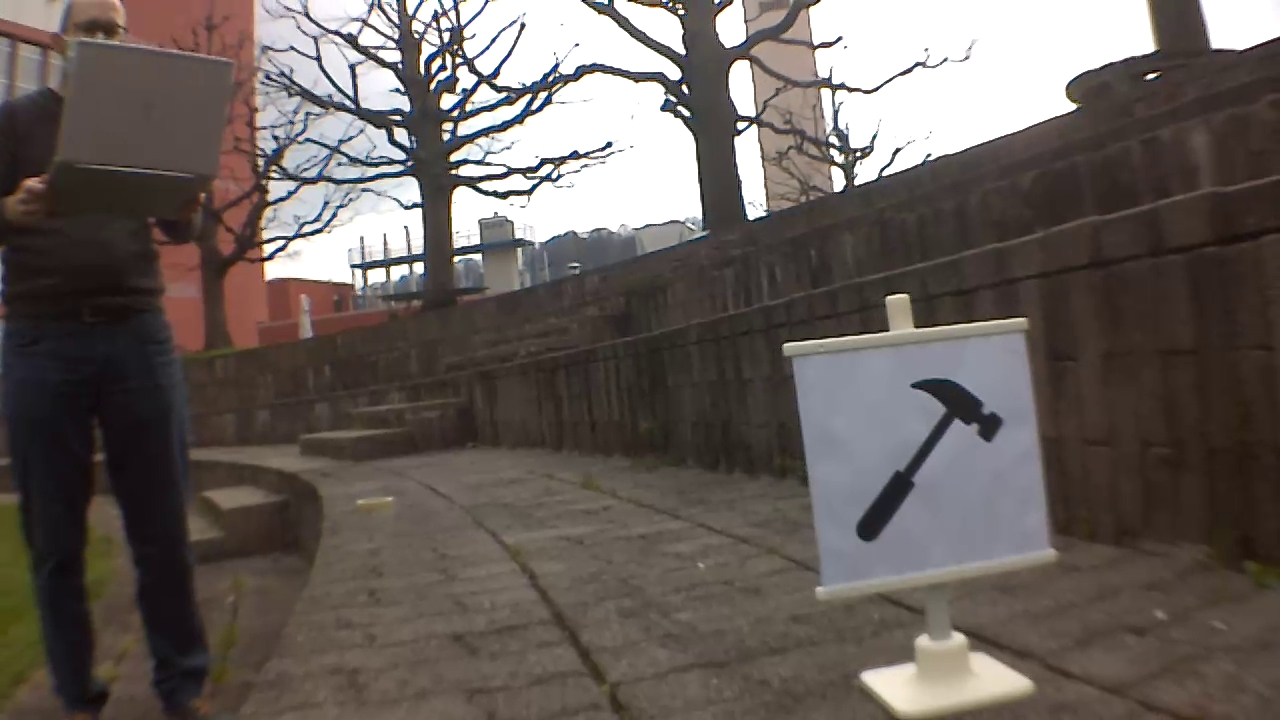hammer: (856, 366, 1005, 544)
